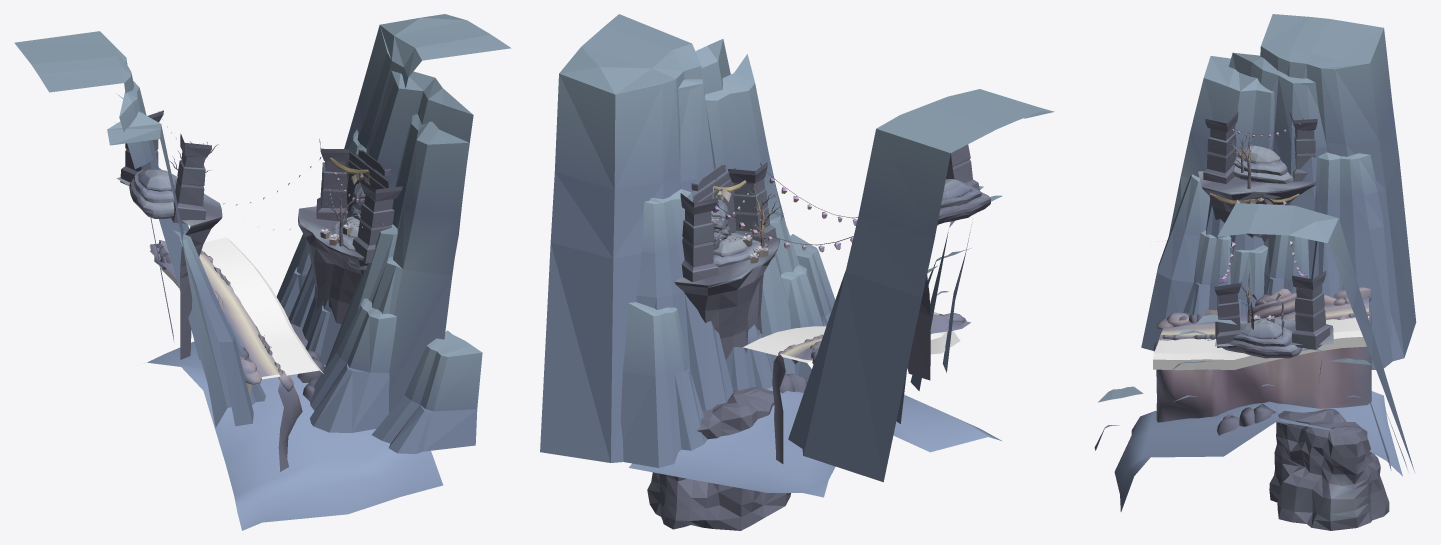
The model's file is Arctic_Narrows_Right_Curve_Right_10_A.glb.
The picture shows the model from 3 angles, left to right: view 1: azimuth 30°, elevation 25°; view 2: azimuth 150°, elevation 25°; view 3: azimuth 270°, elevation 25°; orthographic projection. The views are drawn at different scales.
Parts seen in each view (by area): view 1: Arctic_Narrows_Left_IceWall_A02 (1), Arctic_Narrows_Right_Curve_Right_10_A, Arctic_Narrows_Right_IceWall_A02 (1), Arctic_Narrows_Left_IceWall_A02_Mid, Arctic_Narrows_Left_IceWall_A02_Right, inv_fill, Arctic_Narrows_Arc_Base, Arctic_Narrows_Right_IceWall_A02_Left, Arctic_Narrows_Left_IceWall_A02_Left, Arctic_Narrows_Arc_LPillar (1), Arctic_Narrows_Arc_RPillar, Arctic_Narrows_Arc_Base (1) (+5 smaller); view 2: Arctic_Narrows_Left_IceWall_A02 (1), Arctic_Narrows_Right_IceWall_A02 (1), Arctic_Narrows_Left_IceWall_A02_Left, Arctic_Narrows_Right_Curve_Right_10_A, Arctic_Narrows_Arc_Base, Arctic_Narrows_Big_Rock_A01 (1), Arctic_Narrows_Left_IceWall_A02_Mid, Arctic_Narrows_Arc_LPillar, Arctic_Narrows_Big_Rock_A01_Top, Arctic_Narrows_Arc_RPillar, Arctic_Narrows_Right_IceWall_A02_Right, inv_fill (+7 smaller); view 3: Arctic_Narrows_Right_IceWall_A02 (1), Arctic_Narrows_Right_Curve_Right_10_A, Arctic_Narrows_Right_IceWall_A02_Right, Arctic_Narrows_Right_IceWall_A02_Left, Arctic_Narrows_Left_IceWall_A02 (1), Arctic_Narrows_Big_Rock_A01 (1), Arctic_Narrows_Right_IceWall_A02_Mid, Arctic_Narrows_Big_Rock_A01_Top, inv_fill, Arctic_Narrows_Big_Rock_A01_Mid, Arctic_Narrows_Arc_Base (1), Arctic_Narrows_Arc_LPillar (+11 smaller).
Boxes of the visible parts, left/top/right/bottom form: Arctic_Narrows_Left_IceWall_A02 (1): left=324, top=14, right=511, bottom=413; Arctic_Narrows_Right_Curve_Right_10_A: left=147, top=240, right=443, bottom=530; Arctic_Narrows_Right_IceWall_A02 (1): left=14, top=31, right=231, bottom=427; Arctic_Narrows_Left_IceWall_A02_Mid: left=302, top=296, right=396, bottom=432; Arctic_Narrows_Left_IceWall_A02_Right: left=372, top=330, right=482, bottom=453; inv_fill: left=161, top=237, right=323, bottom=395; Arctic_Narrows_Arc_Base: left=298, top=206, right=368, bottom=324; Arctic_Narrows_Right_IceWall_A02_Left: left=173, top=230, right=265, bottom=426; Arctic_Narrows_Left_IceWall_A02_Left: left=276, top=129, right=366, bottom=328; Arctic_Narrows_Arc_LPillar (1): left=171, top=133, right=211, bottom=223; Arctic_Narrows_Arc_RPillar: left=352, top=179, right=402, bottom=263; Arctic_Narrows_Arc_Base (1): left=116, top=177, right=222, bottom=359; Arctic_Narrows_Left_IceWall_A02 (1): left=540, top=14, right=799, bottom=462; Arctic_Narrows_Right_IceWall_A02 (1): left=802, top=89, right=1054, bottom=482; Arctic_Narrows_Left_IceWall_A02_Left: left=620, top=189, right=733, bottom=467; Arctic_Narrows_Right_Curve_Right_10_A: left=629, top=312, right=1001, bottom=497; Arctic_Narrows_Arc_Base: left=674, top=238, right=779, bottom=360; Arctic_Narrows_Big_Rock_A01 (1): left=647, top=472, right=790, bottom=530; Arctic_Narrows_Left_IceWall_A02_Mid: left=726, top=264, right=826, bottom=391; Arctic_Narrows_Arc_LPillar: left=680, top=193, right=718, bottom=282; Arctic_Narrows_Big_Rock_A01_Top: left=697, top=387, right=774, bottom=439; Arctic_Narrows_Arc_RPillar: left=728, top=162, right=776, bottom=243; Arctic_Narrows_Right_IceWall_A02_Right: left=788, top=271, right=845, bottom=448; inv_fill: left=743, top=326, right=960, bottom=368; Arctic_Narrows_Right_IceWall_A02 (1): left=1169, top=14, right=1416, bottom=361; Arctic_Narrows_Right_Curve_Right_10_A: left=1114, top=287, right=1402, bottom=511; Arctic_Narrows_Right_IceWall_A02_Right: left=1308, top=152, right=1392, bottom=369; Arctic_Narrows_Right_IceWall_A02_Left: left=1141, top=174, right=1231, bottom=350; Arctic_Narrows_Left_IceWall_A02 (1): left=1158, top=203, right=1414, bottom=472; Arctic_Narrows_Big_Rock_A01 (1): left=1269, top=470, right=1389, bottom=530; Arctic_Narrows_Right_IceWall_A02_Mid: left=1229, top=234, right=1309, bottom=315; Arctic_Narrows_Big_Rock_A01_Top: left=1276, top=409, right=1371, bottom=465; inv_fill: left=1153, top=316, right=1368, bottom=370; Arctic_Narrows_Big_Rock_A01_Mid: left=1274, top=444, right=1383, bottom=499; Arctic_Narrows_Arc_Base (1): left=1198, top=171, right=1315, bottom=242; Arctic_Narrows_Arc_LPillar: left=1292, top=270, right=1330, bottom=349.
Size of the model in its own units: 23.1 by 21.56 by 17.76.
